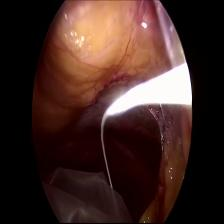Specimen Bag: (47, 163, 132, 224)
